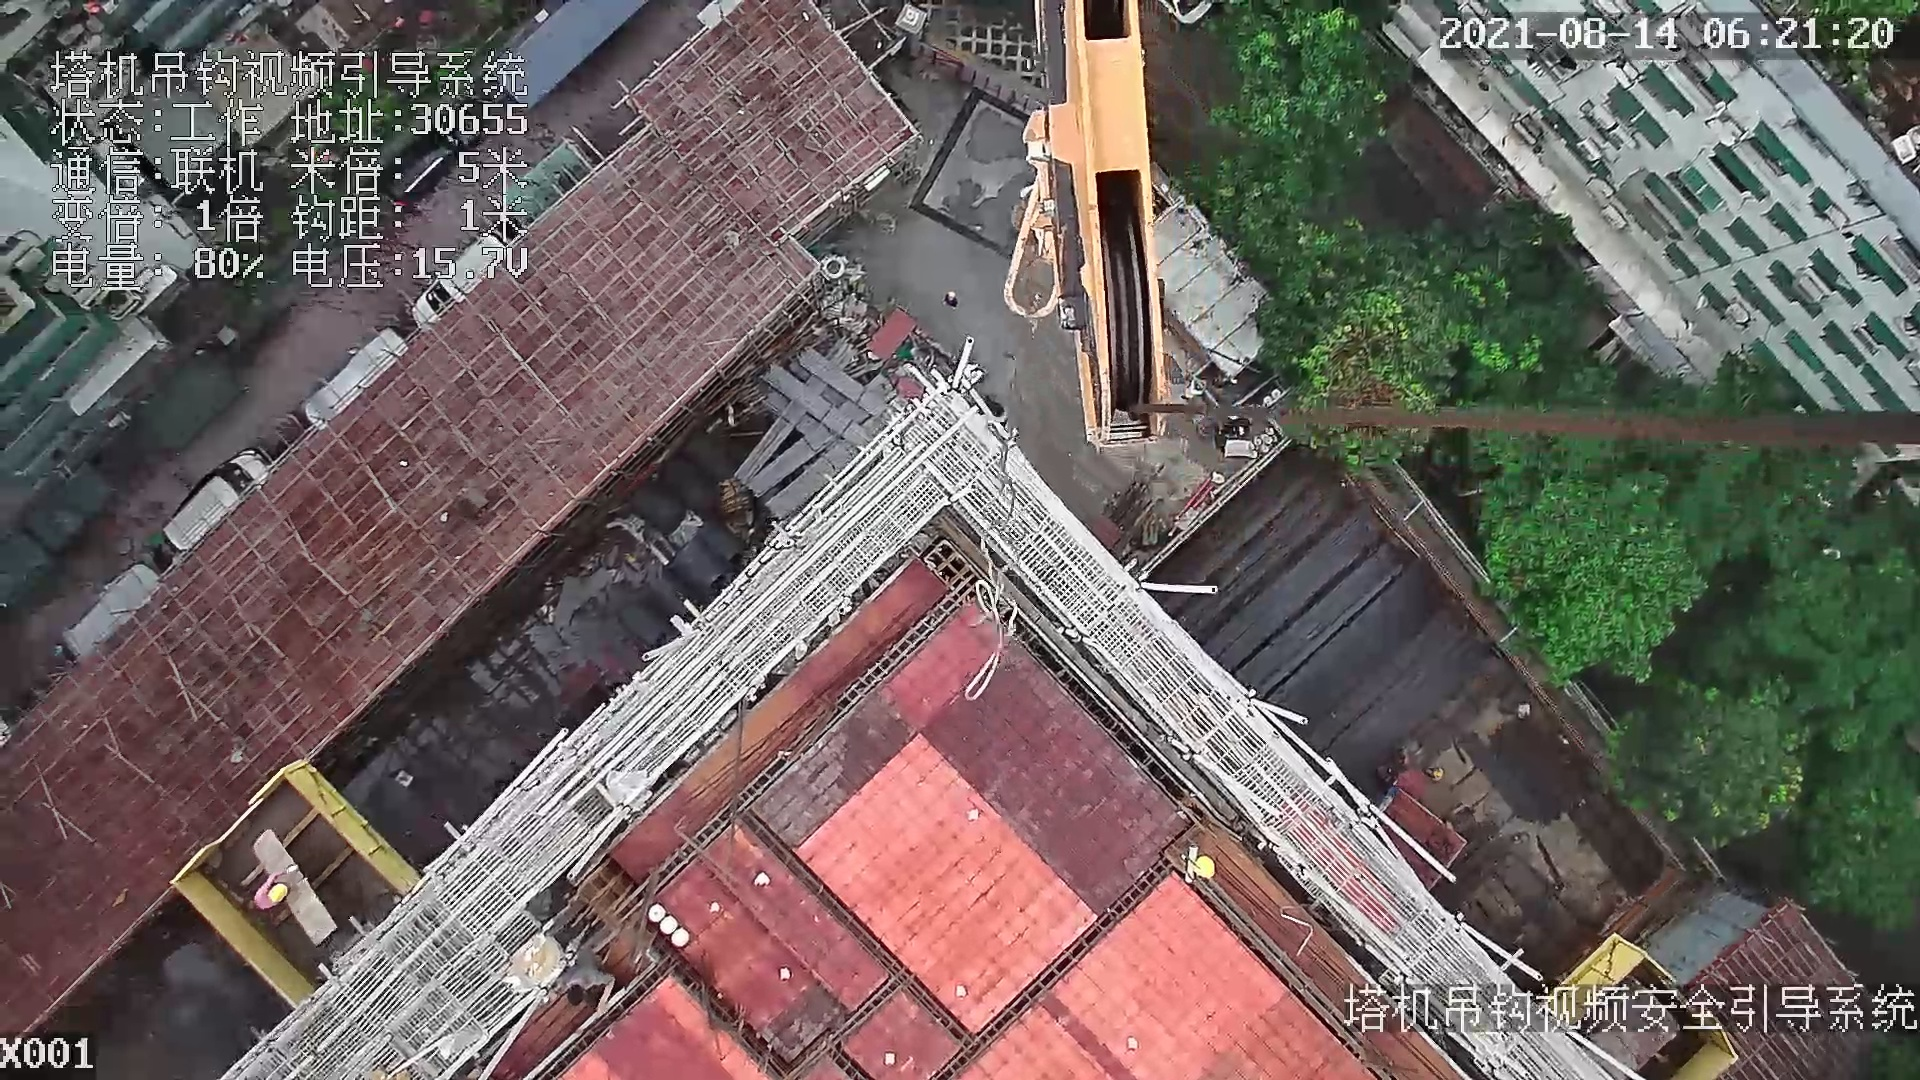helmet: (1192, 854, 1218, 881)
hook: (982, 1, 1176, 446)
person: (242, 864, 312, 915)
rebar: (1155, 463, 1491, 755)
